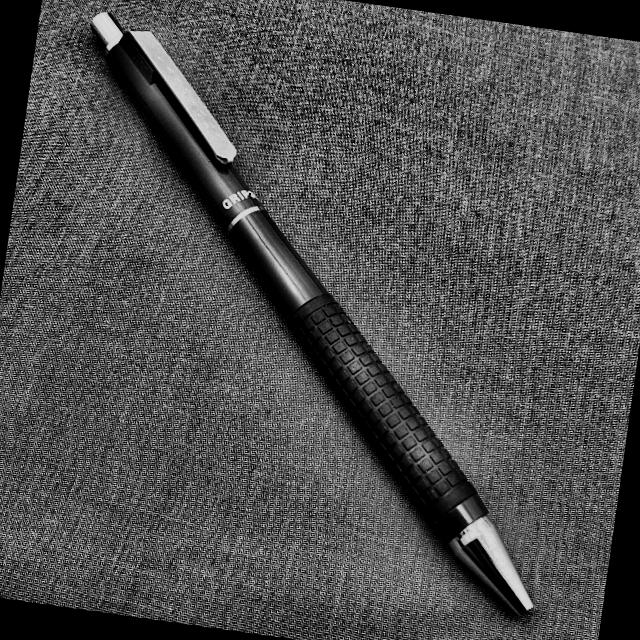Pen: (6, 0, 615, 625)
